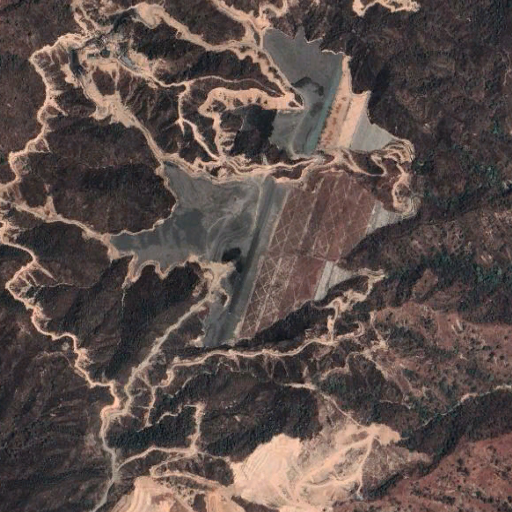tp: (112, 153, 406, 338), (249, 27, 418, 160)
